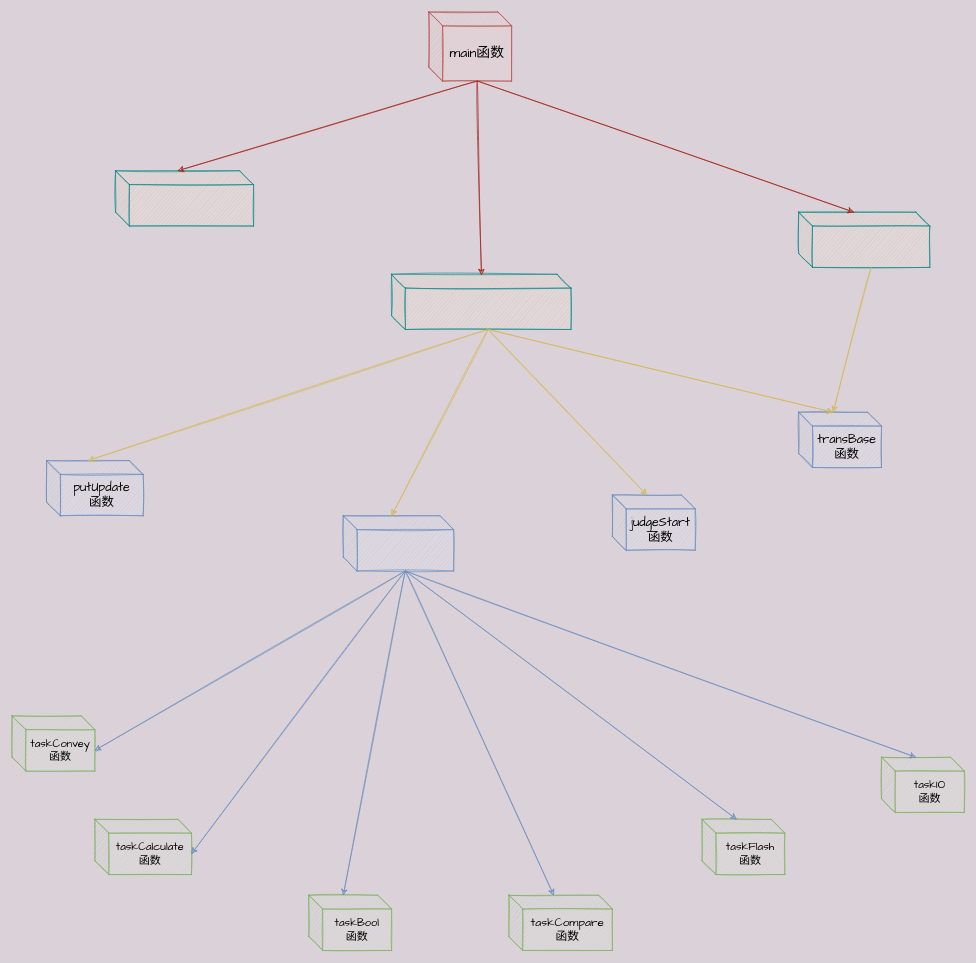
The diagram is 976 pixels wide and 963 high, and some of its shapes have lost their labels. Each missing label, with the centre of its shape:
analyseInstructions 函数: (x=481, y=301)
dicideWork 函数: (x=398, y=543)
getInstructions 函数: (x=184, y=198)
outputInstructions 函数: (x=864, y=239)
